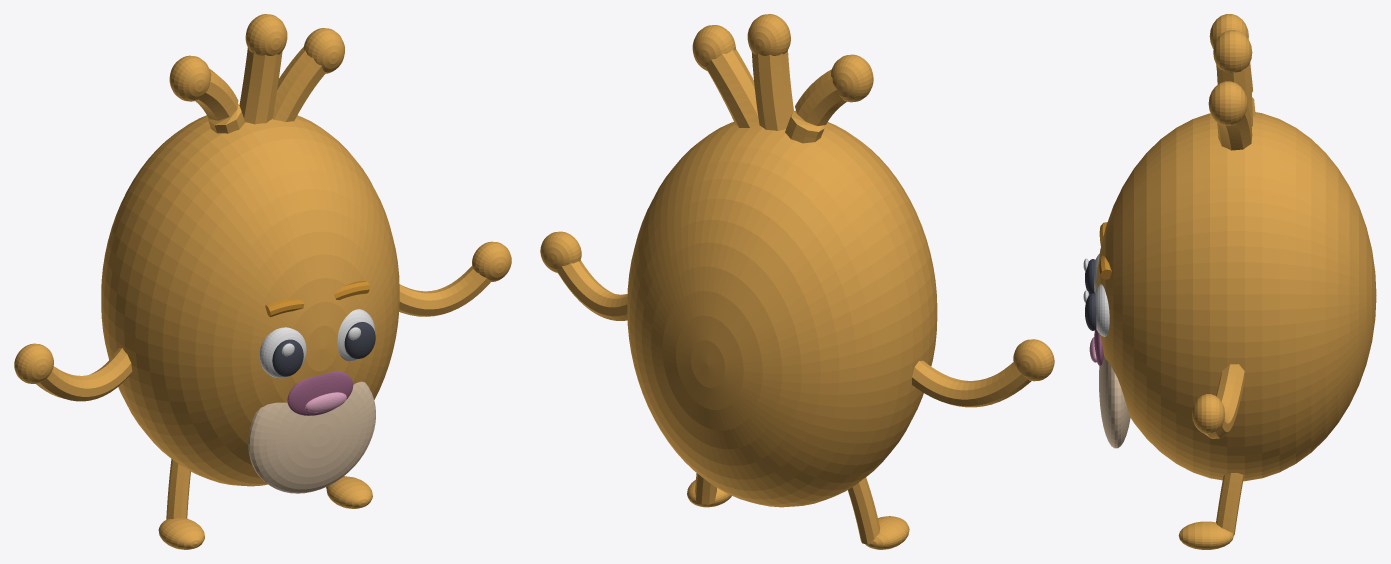
Rendered from BumbleNum_Orange.glb.
3 renders of one model, left to right at view 1: azimuth 30°, elevation 25°; view 2: azimuth 150°, elevation 25°; view 3: azimuth 270°, elevation 25°, orthographic. The views are drawn at different scales.
Parts seen in each view (by area): view 1: BumbleNum_Orange; view 2: BumbleNum_Orange; view 3: BumbleNum_Orange.
Part boxes in pixels (x1,y1,x2,y2): BumbleNum_Orange: (14,14,511,549); BumbleNum_Orange: (540,14,1054,549); BumbleNum_Orange: (1083,14,1376,549).
Size of the model in its own units: 2.4 by 2.31 by 1.27.
